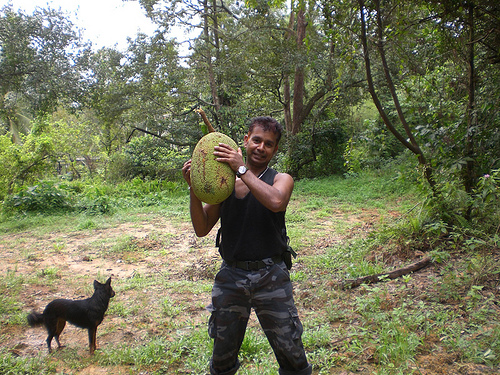jackfruit: (188, 128, 240, 206)
